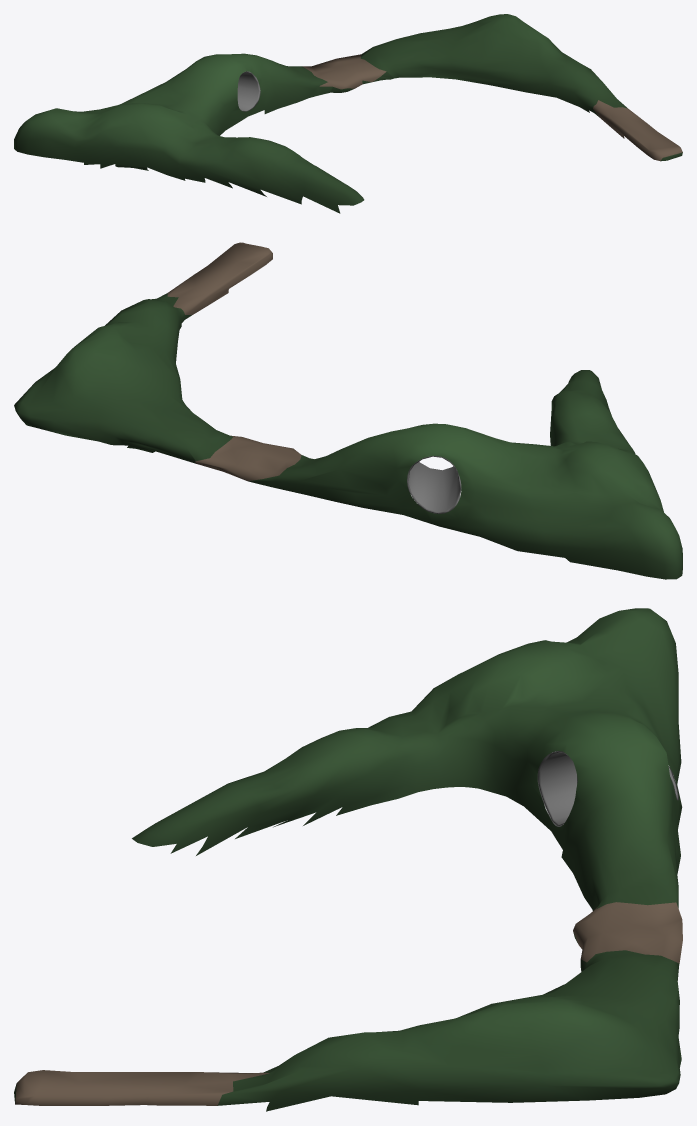
Rendered from hill.fbx.
3 renders of one model, top to bottom at view 1: azimuth 30°, elevation 25°; view 2: azimuth 150°, elevation 25°; view 3: azimuth 270°, elevation 25°, orthographic. The views are drawn at different scales.
Parts seen in each view (by area): view 1: Cube.094; view 2: Cube.094; view 3: Cube.094.
Part boxes in pixels (<box>): Cube.094: <box>14,14,682,213</box>; Cube.094: <box>14,242,682,579</box>; Cube.094: <box>14,608,682,1111</box>.
Bounding box in the file's own units: 2907 × 359 × 1815.
